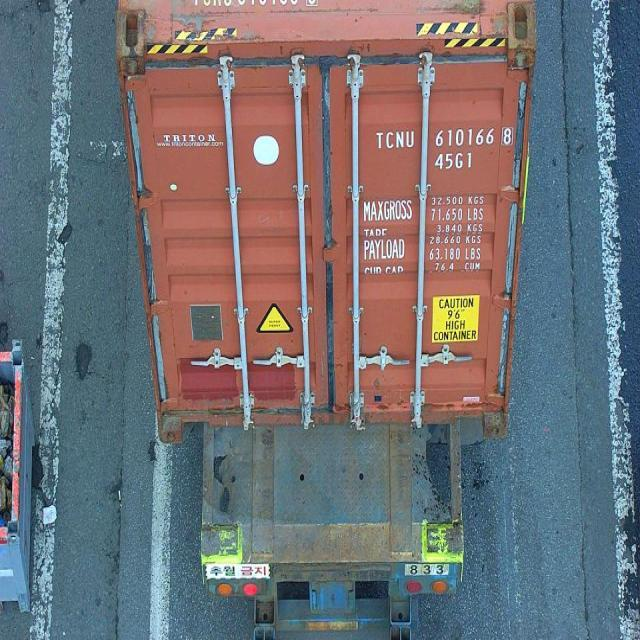ISO: (432, 152, 474, 170)
container_number: (376, 126, 514, 148)
